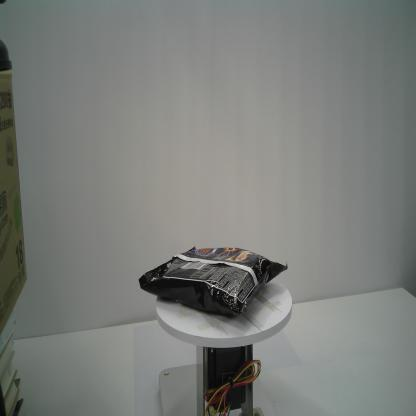Instant Noodles: (138, 244, 289, 318)
